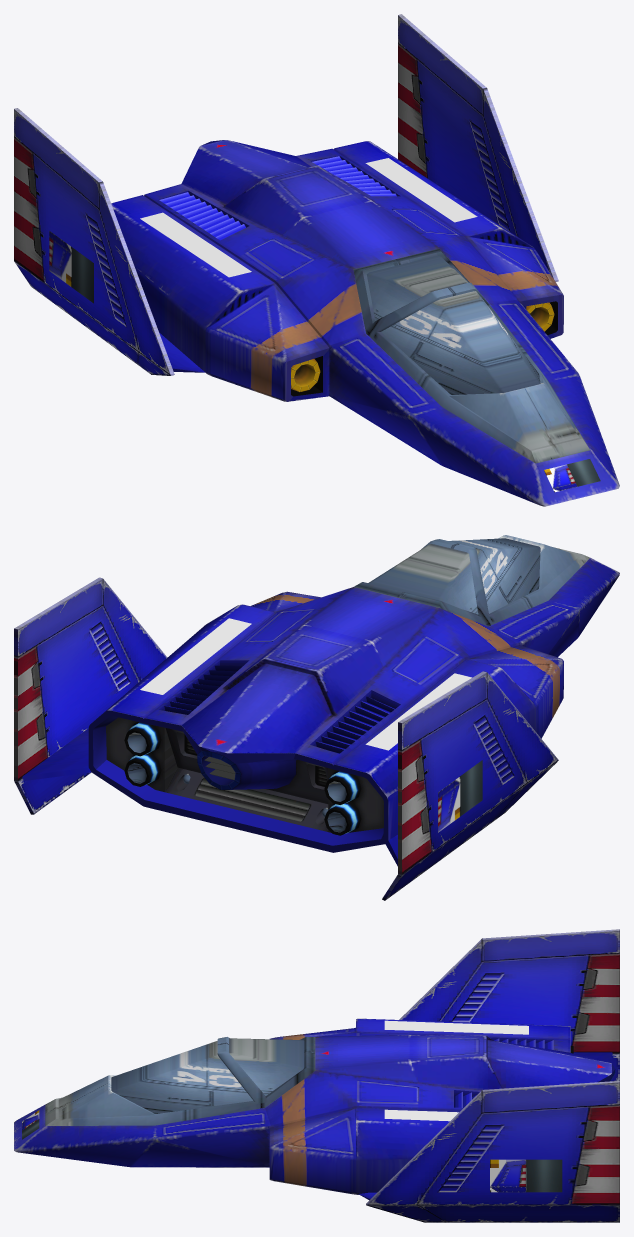
File: blueFalcon.obj
3 renders of one model, top to bottom at view 1: azimuth 30°, elevation 25°; view 2: azimuth 150°, elevation 25°; view 3: azimuth 270°, elevation 25°, orthographic. The views are drawn at different scales.
Parts seen in each view (by area): view 1: 07_bluefalcon_a_gxmat3, 07_bluefalcon_a_gxmat11, 07_bluefalcon_a_gxmat14, 07_bluefalcon_a_gxmat16, 07_bluefalcon_a_gxmat26, 07_bluefalcon_a_gxmat22, 07_bluefalcon_a_gxmat2, 07_bluefalcon_a_gxmat6, 07_bluefalcon_a_gxmat7, 07_bluefalcon_a_gxmat10; view 2: 07_bluefalcon_a_gxmat3, 07_bluefalcon_a_gxmat11, 07_bluefalcon_a_gxmat9, 07_bluefalcon_a_gxmat14, 07_bluefalcon_a_gxmat26, 07_bluefalcon_a_gxmat16, 07_bluefalcon_a_gxmat22, 07_bluefalcon_a_gxmat2, 07_bluefalcon_a_gxmat25, 07_bluefalcon_a_gxmat24, 07_bluefalcon_a_gxmat6, 07_bluefalcon_a_gxmat7; view 3: 07_bluefalcon_a_gxmat3, 07_bluefalcon_a_gxmat11, 07_bluefalcon_a_gxmat14, 07_bluefalcon_a_gxmat26, 07_bluefalcon_a_gxmat16, 07_bluefalcon_a_gxmat22, 07_bluefalcon_a_gxmat7, 07_bluefalcon_a_gxmat6, 07_bluefalcon_a_gxmat2.
Boxes of the visible parts, x1=… form: 07_bluefalcon_a_gxmat3: x1=111, y1=140, x2=619, y2=506; 07_bluefalcon_a_gxmat11: x1=14, y1=14, x2=558, y2=375; 07_bluefalcon_a_gxmat14: x1=366, y1=256, x2=540, y2=394; 07_bluefalcon_a_gxmat16: x1=353, y1=248, x2=589, y2=463; 07_bluefalcon_a_gxmat26: x1=14, y1=44, x2=427, y2=282; 07_bluefalcon_a_gxmat22: x1=140, y1=158, x2=477, y2=277; 07_bluefalcon_a_gxmat2: x1=159, y1=156, x2=396, y2=240; 07_bluefalcon_a_gxmat6: x1=49, y1=231, x2=577, y2=492; 07_bluefalcon_a_gxmat7: x1=71, y1=247, x2=600, y2=486; 07_bluefalcon_a_gxmat10: x1=291, y1=302, x2=554, y2=391; 07_bluefalcon_a_gxmat3: x1=22, y1=558, x2=619, y2=866; 07_bluefalcon_a_gxmat11: x1=14, y1=577, x2=558, y2=900; 07_bluefalcon_a_gxmat9: x1=106, y1=717, x2=383, y2=832; 07_bluefalcon_a_gxmat14: x1=368, y1=538, x2=540, y2=614; 07_bluefalcon_a_gxmat26: x1=14, y1=646, x2=432, y2=874; 07_bluefalcon_a_gxmat16: x1=354, y1=535, x2=589, y2=626; 07_bluefalcon_a_gxmat22: x1=140, y1=618, x2=471, y2=750; 07_bluefalcon_a_gxmat2: x1=164, y1=665, x2=394, y2=753; 07_bluefalcon_a_gxmat25: x1=124, y1=722, x2=361, y2=835; 07_bluefalcon_a_gxmat24: x1=127, y1=732, x2=346, y2=832; 07_bluefalcon_a_gxmat6: x1=438, y1=776, x2=460, y2=832; 07_bluefalcon_a_gxmat7: x1=460, y1=760, x2=482, y2=816; 07_bluefalcon_a_gxmat3: x1=14, y1=1018, x2=615, y2=1200; 07_bluefalcon_a_gxmat11: x1=366, y1=929, x2=619, y2=1222; 07_bluefalcon_a_gxmat14: x1=111, y1=1038, x2=304, y2=1113; 07_bluefalcon_a_gxmat26: x1=571, y1=953, x2=619, y2=1205; 07_bluefalcon_a_gxmat16: x1=45, y1=1036, x2=315, y2=1125; 07_bluefalcon_a_gxmat22: x1=384, y1=1020, x2=528, y2=1121; 07_bluefalcon_a_gxmat7: x1=22, y1=1119, x2=562, y2=1192; 07_bluefalcon_a_gxmat6: x1=22, y1=1110, x2=526, y2=1192; 07_bluefalcon_a_gxmat2: x1=454, y1=1038, x2=553, y2=1107.
Size of the model in its own units: 2.52 by 1.17 by 4.2.
